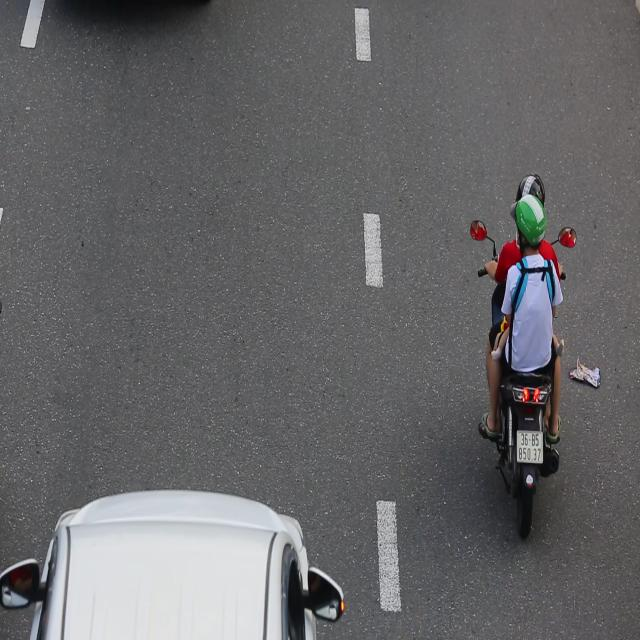motorbike: (462, 166, 590, 554)
